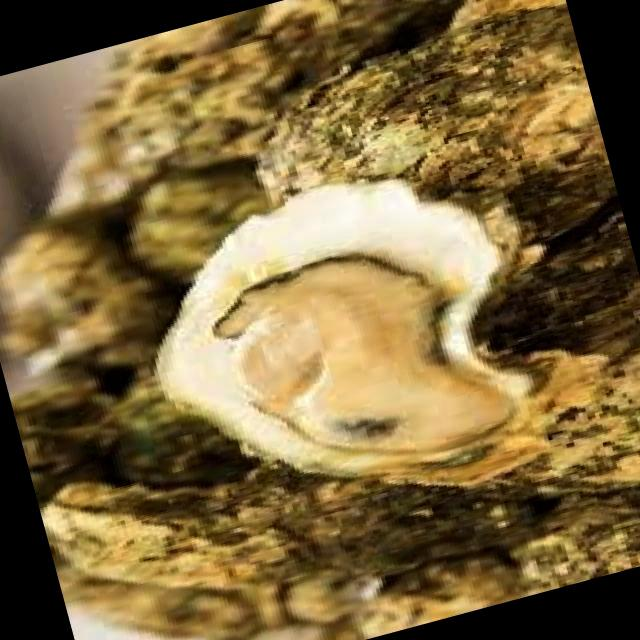Oyster-Closed: (240, 15, 640, 208), (57, 48, 293, 202), (36, 478, 344, 588), (248, 474, 576, 570), (1, 212, 166, 364), (480, 220, 640, 370), (134, 170, 294, 292), (526, 350, 640, 504), (0, 369, 124, 493), (332, 562, 528, 640), (84, 374, 236, 474), (504, 511, 640, 619)
Oyster-Open: (158, 180, 531, 482)
